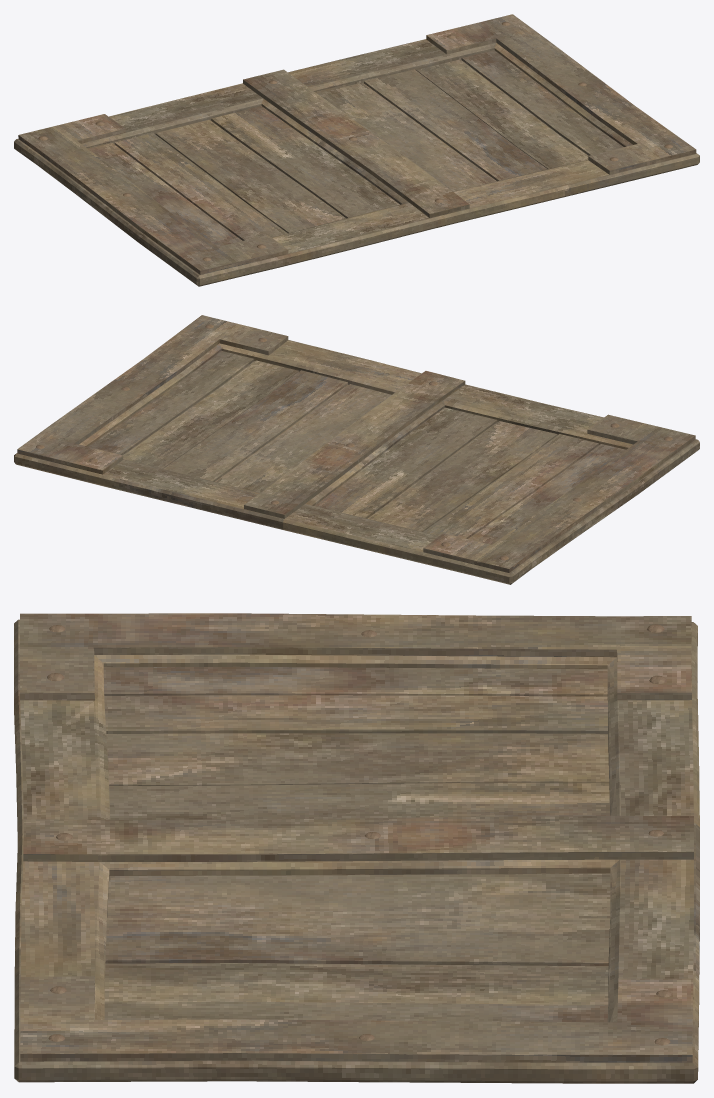
The model's file is lid.glb.
3 renders of one model, top to bottom at view 1: azimuth 30°, elevation 25°; view 2: azimuth 150°, elevation 25°; view 3: azimuth 270°, elevation 25°, orthographic. The views are drawn at different scales.
Parts seen in each view (by area): view 1: SM_Crate_Lid_A_01_LOD1; view 2: SM_Crate_Lid_A_01_LOD1; view 3: SM_Crate_Lid_A_01_LOD1.
Boxes of the visible parts, <box> form: SM_Crate_Lid_A_01_LOD1: <box>14,14,699,286</box>; SM_Crate_Lid_A_01_LOD1: <box>14,315,699,584</box>; SM_Crate_Lid_A_01_LOD1: <box>14,613,699,1083</box>.
Bounding box in the file's own units: 1.47 × 0.0503 × 0.952.
Materials: 1 (1 with a texture image).
